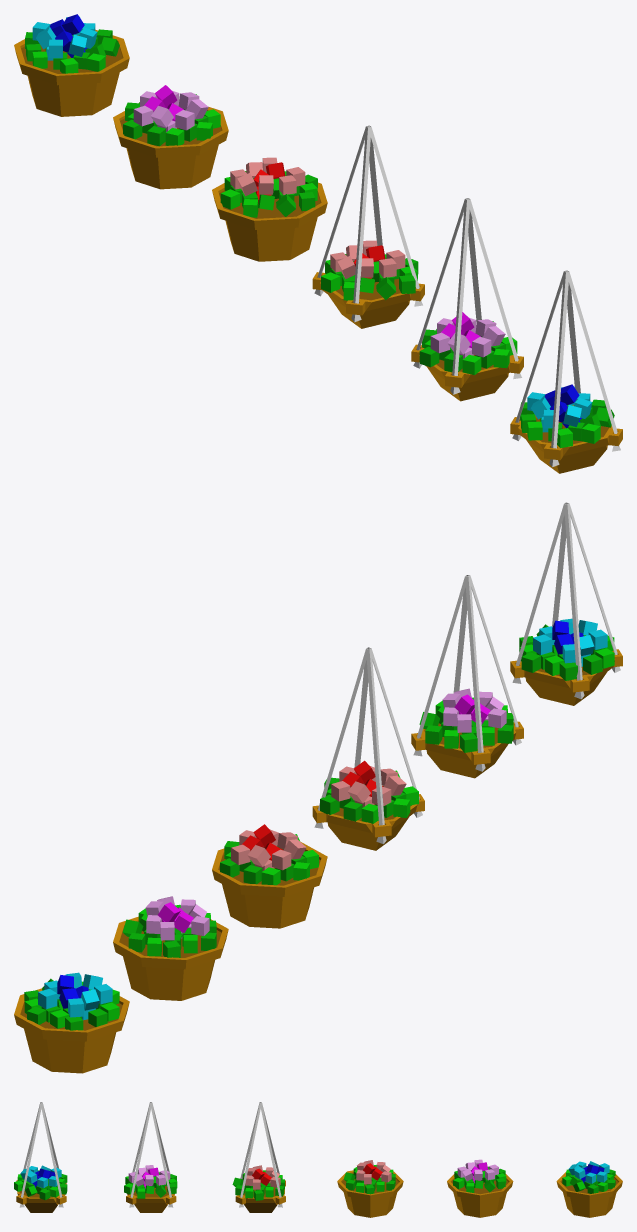
Rendered from SPotPlantGroup.fbx.
3 views of the same model, one above another, from view 1: azimuth 30°, elevation 25°; view 2: azimuth 150°, elevation 25°; view 3: azimuth 270°, elevation 25° (orthographic). The views are drawn at different scales.
Visible parts, largest first — view 1: HangingPlanterR, HangingPlanterB, HangingPlanterP, SFlowerPotR, SFlowerPotP, SFlowerPotB; view 2: HangingPlanterP, HangingPlanterB, HangingPlanterR, SFlowerPotP, SFlowerPotR, SFlowerPotB; view 3: SFlowerPotP, SFlowerPotB, SFlowerPotR, HangingPlanterB, HangingPlanterP, HangingPlanterR.
Boxes of the visible parts, x1,y1,x2,y2 form: HangingPlanterR: (312, 125, 424, 328); HangingPlanterB: (510, 270, 622, 473); HangingPlanterP: (411, 198, 523, 401); SFlowerPotR: (212, 157, 327, 261); SFlowerPotP: (113, 85, 228, 189); SFlowerPotB: (14, 14, 129, 116); HangingPlanterP: (411, 575, 523, 778); HangingPlanterB: (510, 502, 622, 705); HangingPlanterR: (312, 647, 424, 850); SFlowerPotP: (113, 896, 228, 1000); SFlowerPotR: (212, 824, 327, 928); SFlowerPotB: (14, 972, 129, 1073); SFlowerPotP: (447, 1159, 513, 1217); SFlowerPotB: (556, 1161, 622, 1217); SFlowerPotR: (337, 1160, 403, 1217); HangingPlanterB: (14, 1102, 67, 1212); HangingPlanterP: (124, 1102, 177, 1212); HangingPlanterR: (232, 1102, 285, 1212).
Bounding box in the file's own units: 60.59 × 106 × 555.
